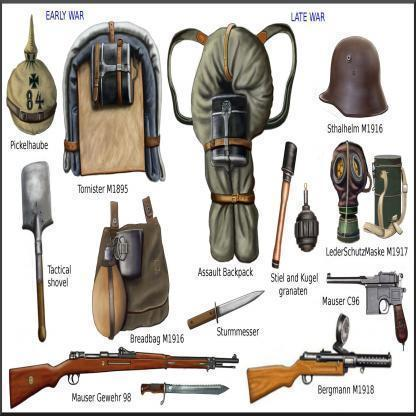Grenade: (271, 136, 299, 275), (293, 180, 321, 255)
Gun: (9, 344, 240, 414), (245, 309, 393, 406)
Knife: (186, 288, 265, 332), (139, 378, 230, 410)
Pistol: (325, 269, 410, 354)
